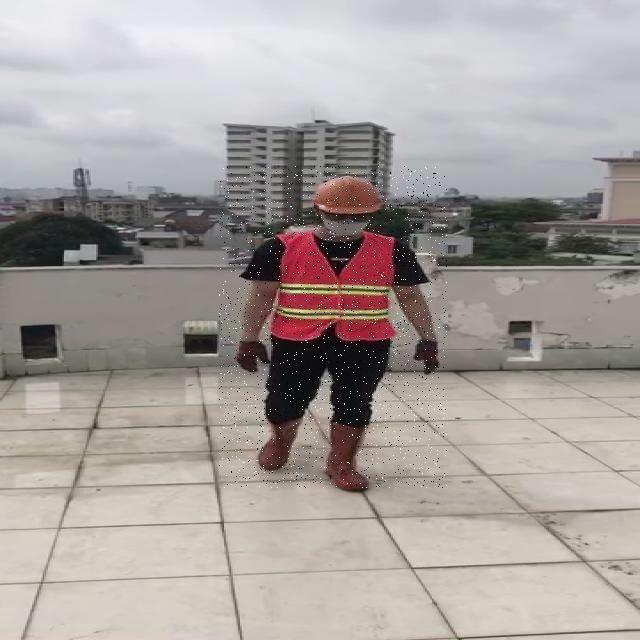Boots: (329, 421, 377, 493), (243, 419, 306, 471)
Helmet: (309, 172, 386, 216)
Person: (220, 166, 448, 488)
Vest: (274, 234, 398, 340)
